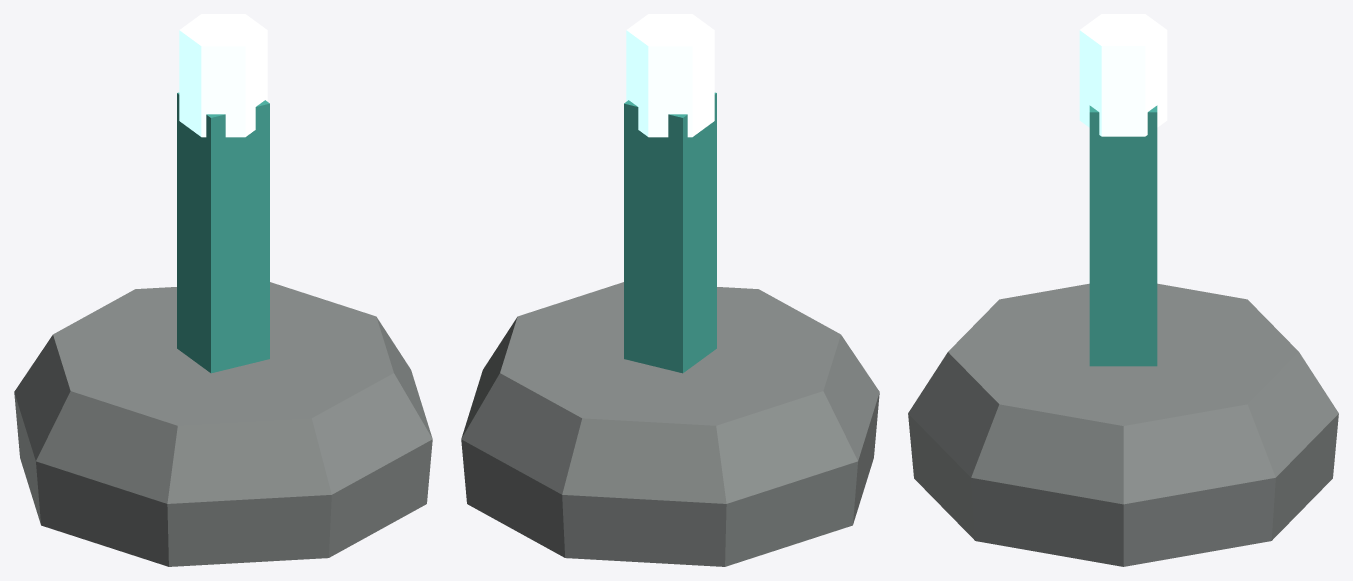
Rendered from building-outpost.glb.
The picture shows the model from 3 angles, left to right: view 1: azimuth 30°, elevation 25°; view 2: azimuth 150°, elevation 25°; view 3: azimuth 270°, elevation 25°; orthographic projection.
Visible parts, largest first — view 1: Body; view 2: Body; view 3: Body.
Part boxes in pixels (x1,y1,x2,y2): Body: [14, 14, 432, 566]; Body: [461, 14, 879, 566]; Body: [908, 14, 1338, 566].
Size of the model in its own units: 2.16 by 2.48 by 2.16.
